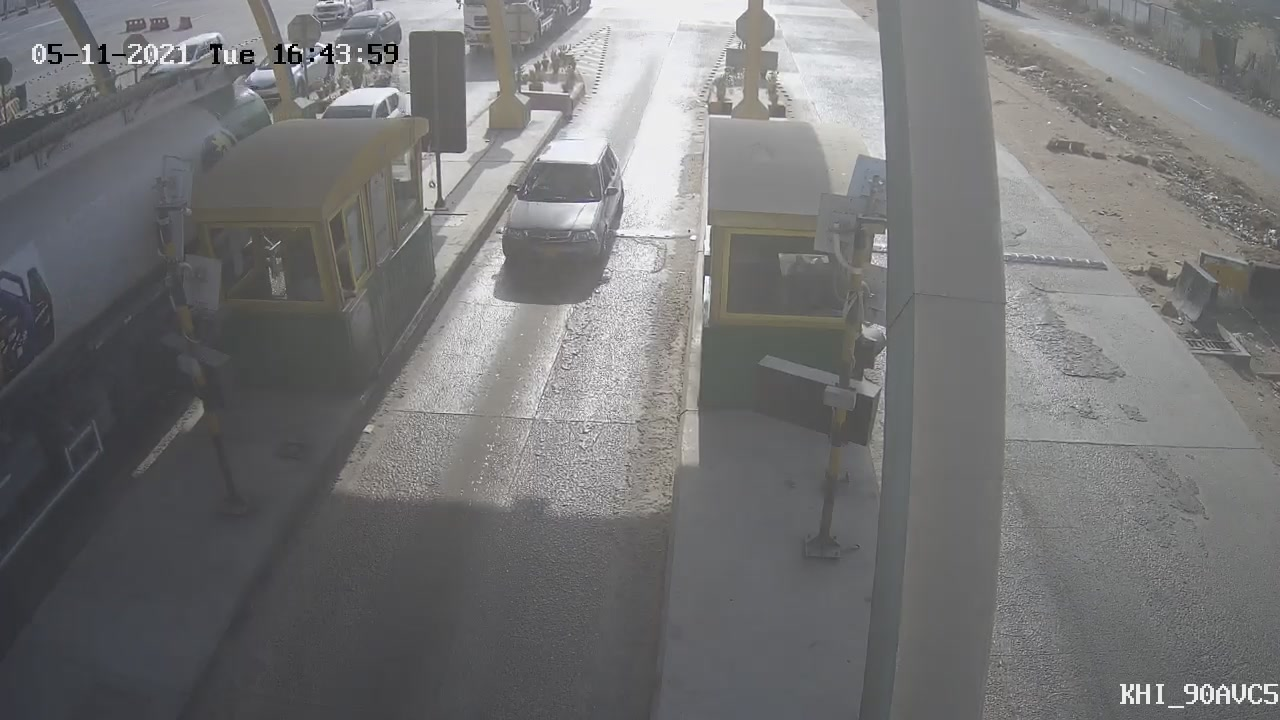F1: (486, 122, 639, 295)
